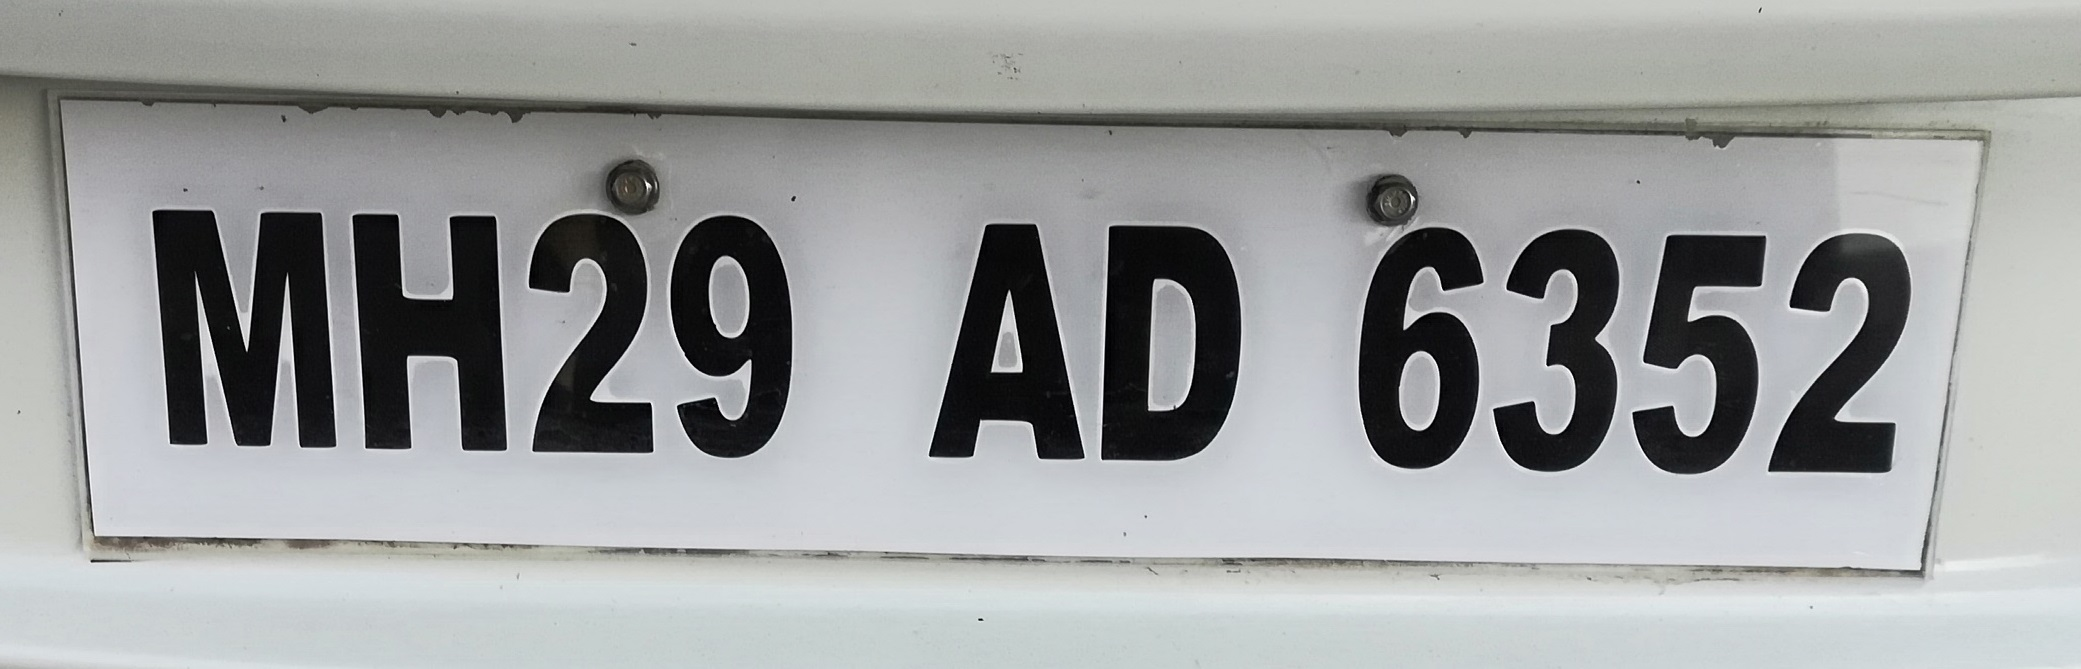numberplate: (31, 84, 1999, 586)
